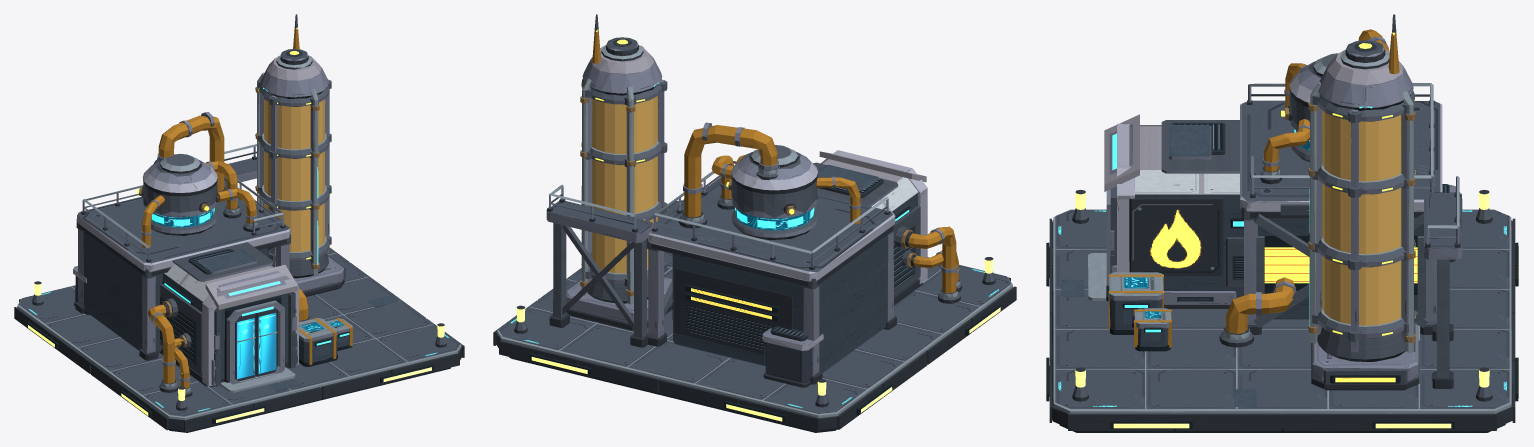
Rendered from RF03_RefineriaIndustrial_Distancia.fbx.
The picture shows the model from 3 angles, left to right: view 1: azimuth 30°, elevation 25°; view 2: azimuth 150°, elevation 25°; view 3: azimuth 270°, elevation 25°; orthographic projection. The views are drawn at different scales.
Visible parts, largest first — view 1: EstructuraDistante_3, CristalYCombustibleDistantes_3; view 2: EstructuraDistante_3, CristalYCombustibleDistantes_3; view 3: EstructuraDistante_3, CristalYCombustibleDistantes_3.
Boxes of the visible parts, x1,y1,x2,y2 form: EstructuraDistante_3: (14,14,464,432); CristalYCombustibleDistantes_3: (264,99,324,252); EstructuraDistante_3: (493,14,1016,432); CristalYCombustibleDistantes_3: (592,96,657,273); EstructuraDistante_3: (1045,14,1519,432); CristalYCombustibleDistantes_3: (1322,110,1401,325).
Bounding box in the file's own units: 6.45 × 5.62 × 6.23.
